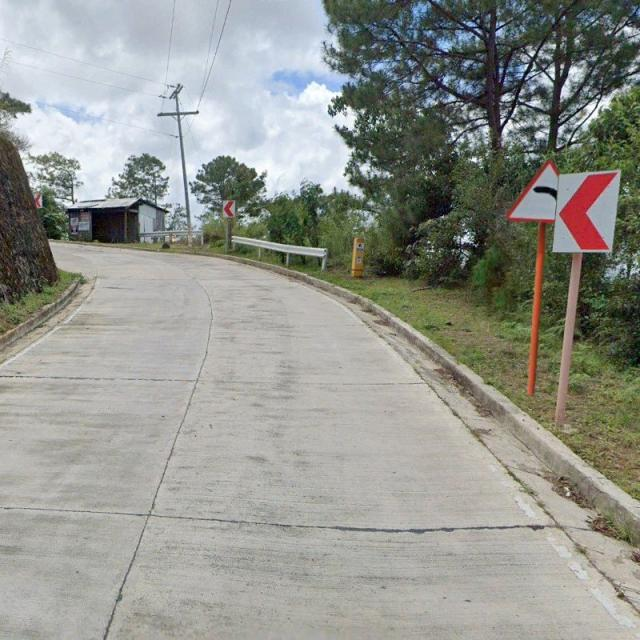warn_left_curve: (507, 158, 585, 224)
